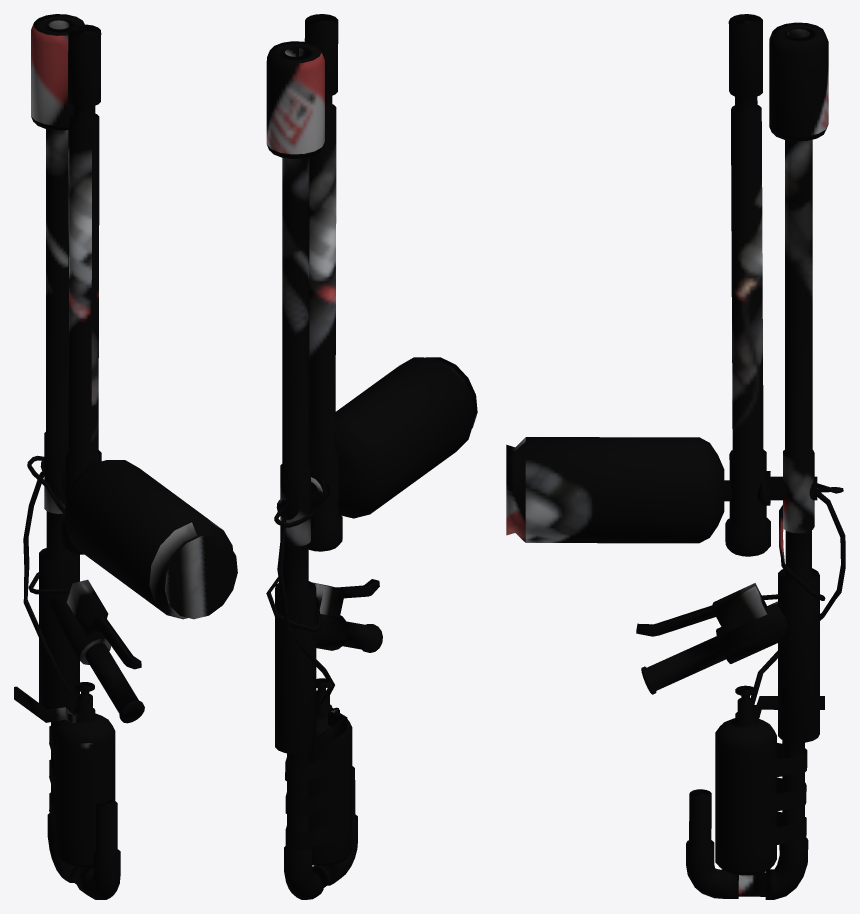
The model's file is TLOG_Flamethrower.fbx.
3 views of the same model, side by side, from view 1: azimuth 30°, elevation 25°; view 2: azimuth 150°, elevation 25°; view 3: azimuth 270°, elevation 25° (orthographic). The views are drawn at different scales.
Visible parts, largest first — view 1: flamethrowerSemiready; view 2: flamethrowerSemiready; view 3: flamethrowerSemiready.
Part boxes in pixels (bbox=[...]): flamethrowerSemiready: bbox=[14, 14, 237, 899]; flamethrowerSemiready: bbox=[266, 14, 477, 899]; flamethrowerSemiready: bbox=[506, 14, 845, 899].
Size of the model in its own units: 0.0508 by 0.488 by 0.1712.
